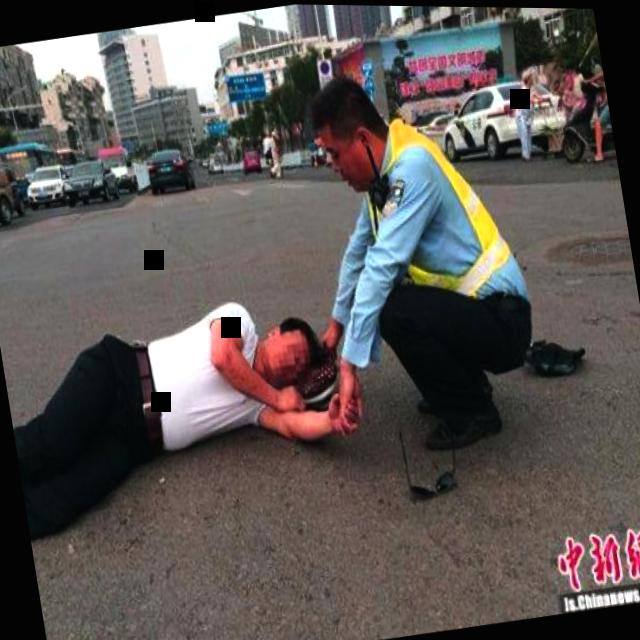Fall-Detected: (0, 262, 384, 575)
